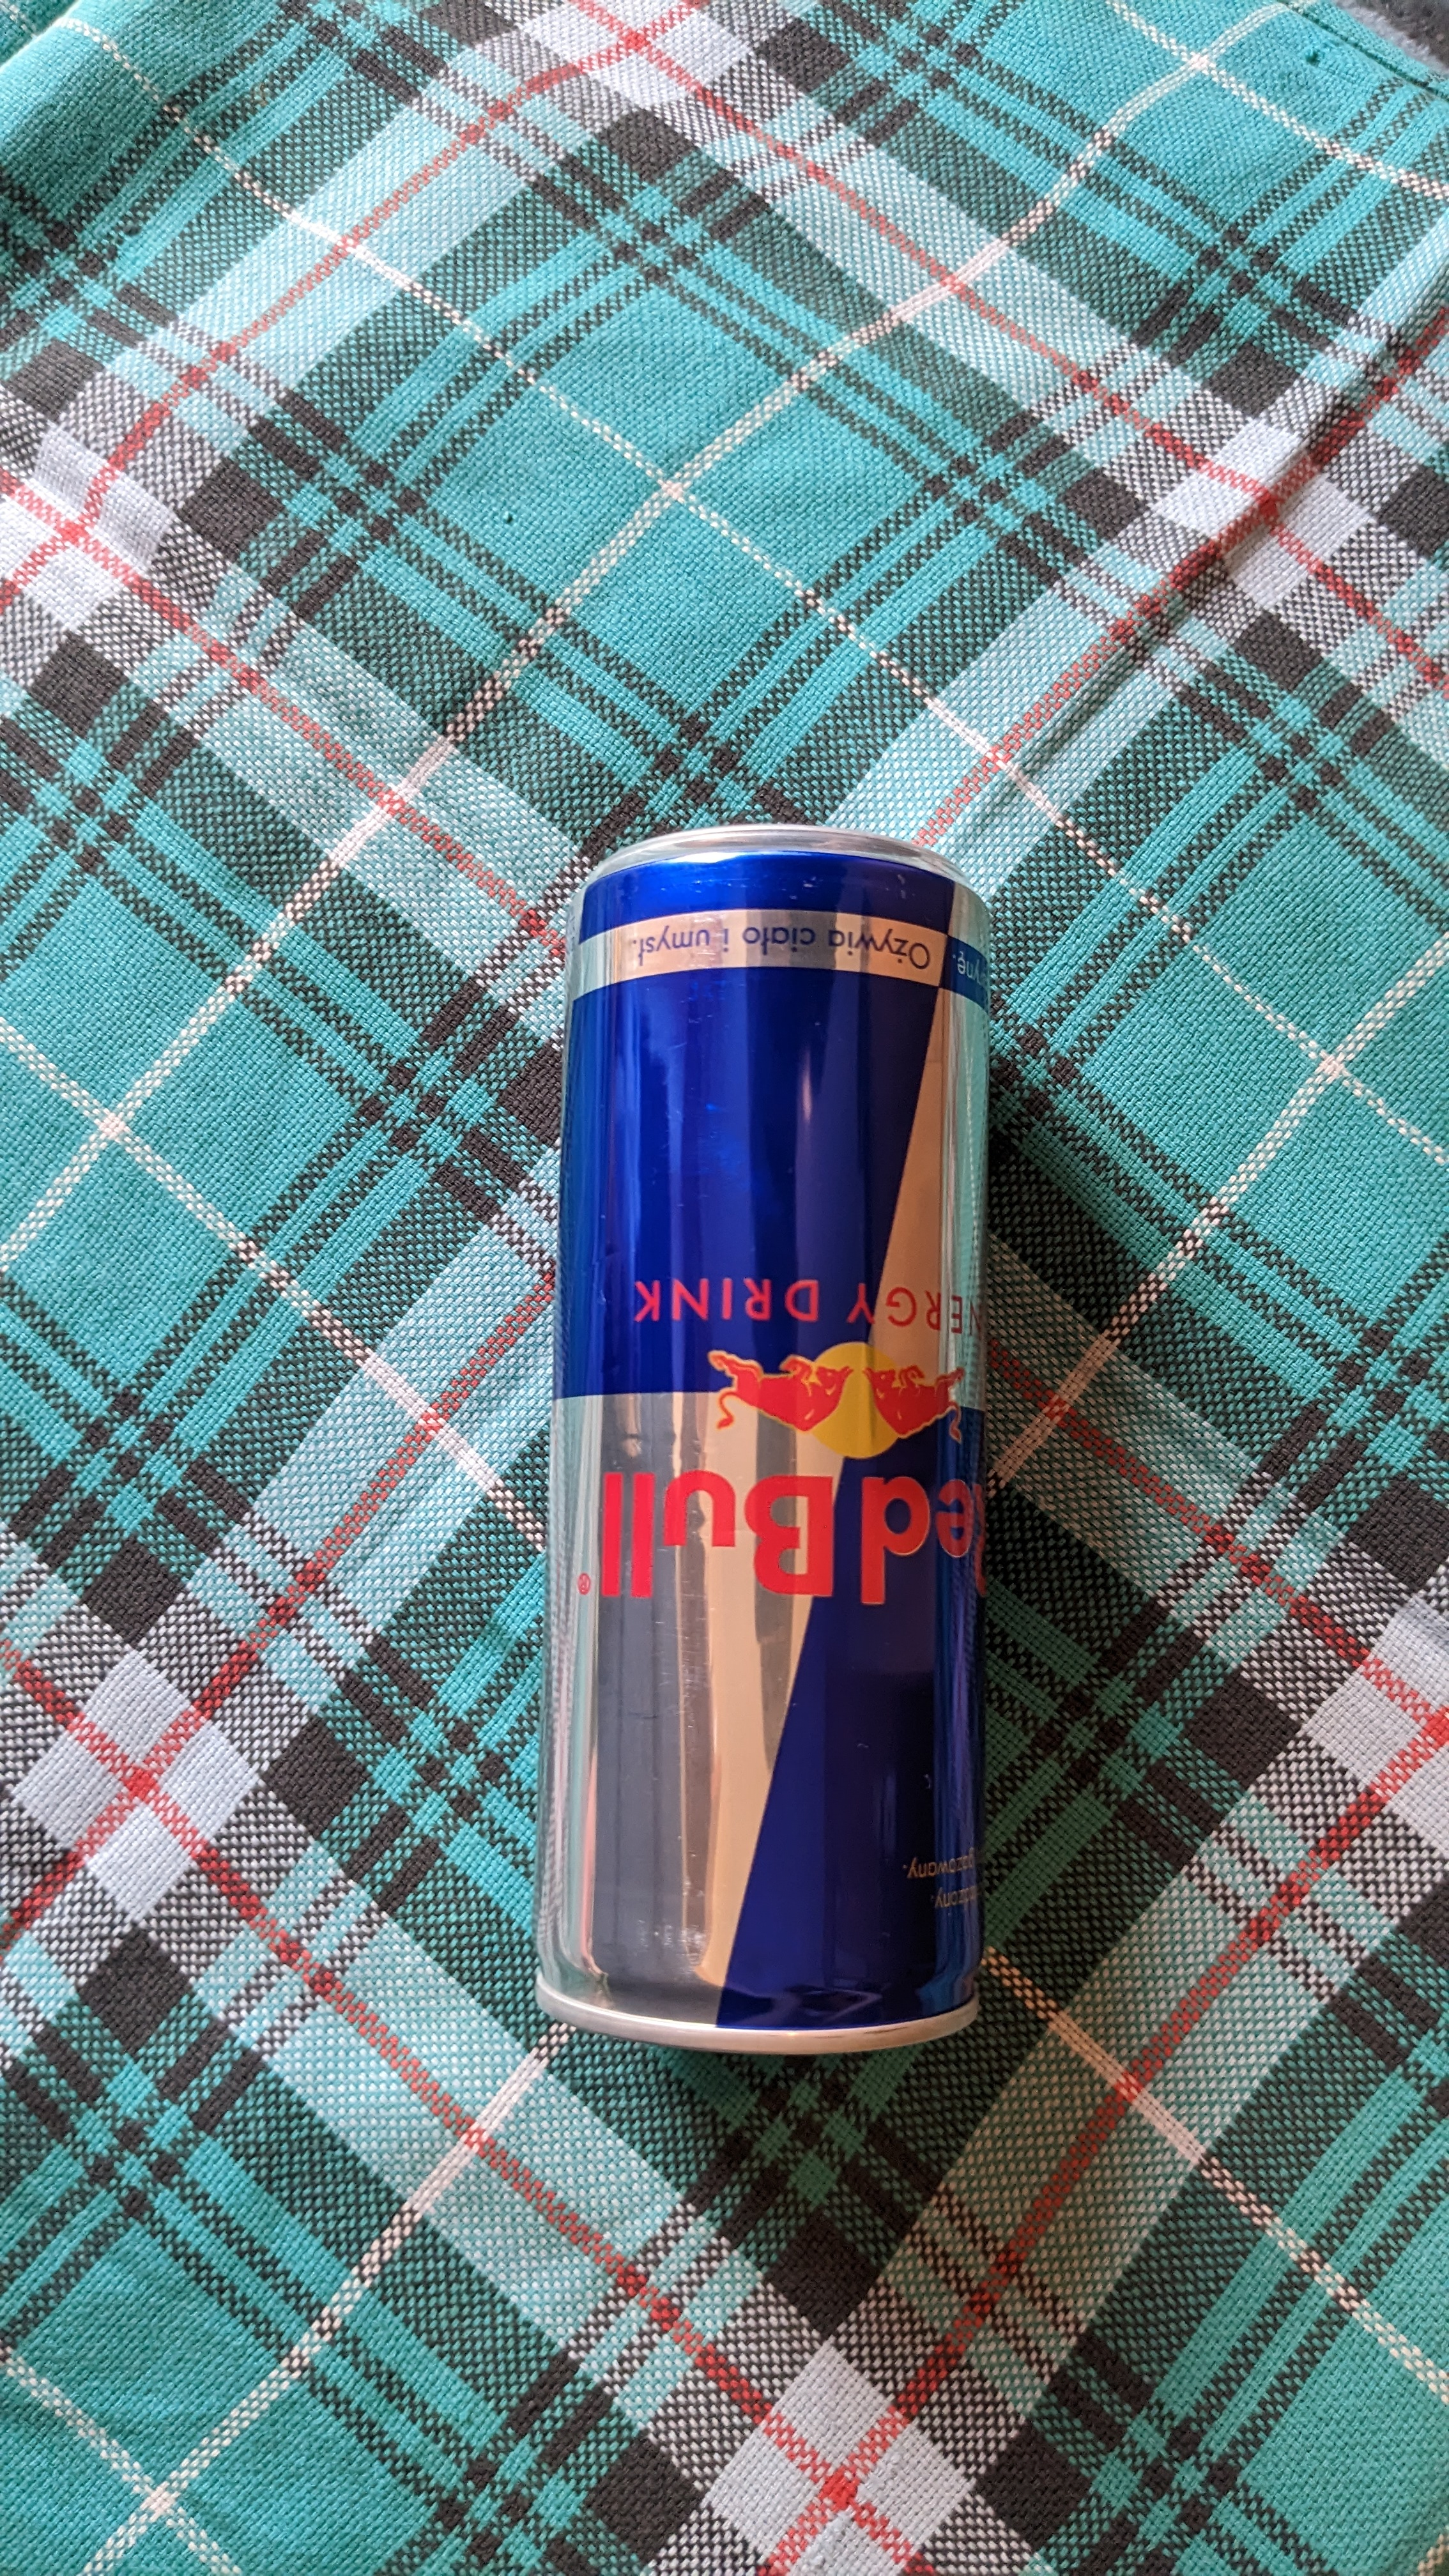red-bull: (538, 807, 1049, 2070)
